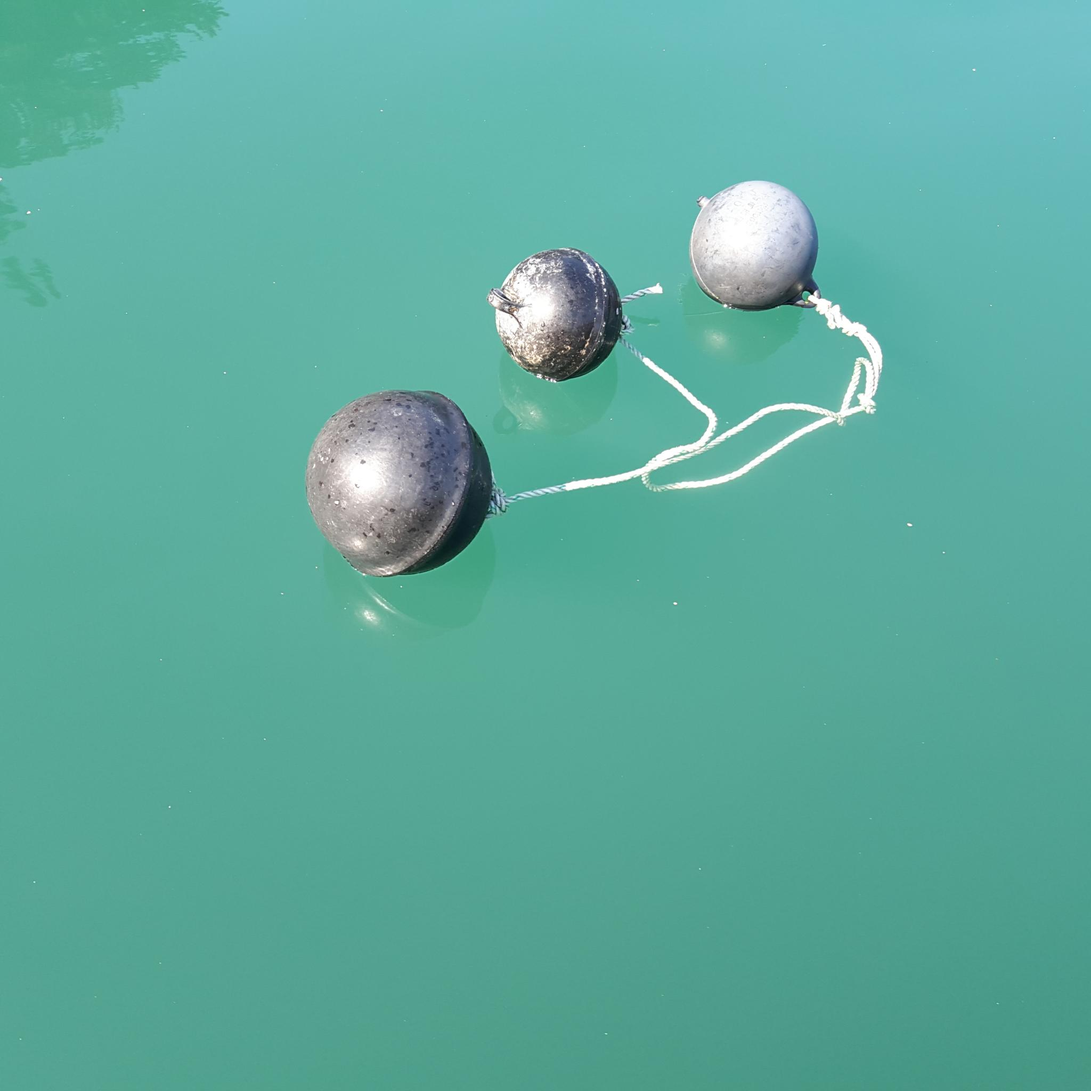sampah_terapung: (490, 283, 883, 517), (305, 389, 492, 579), (487, 248, 623, 382), (689, 181, 822, 312)
